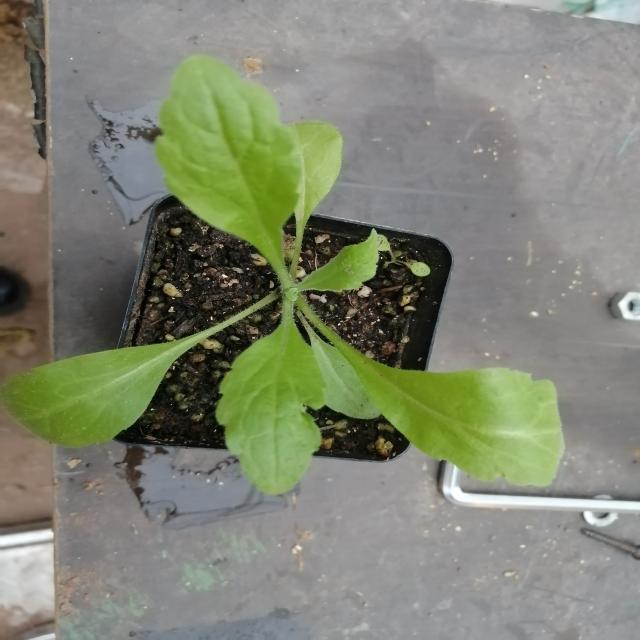horseweed: (3, 56, 550, 504)
